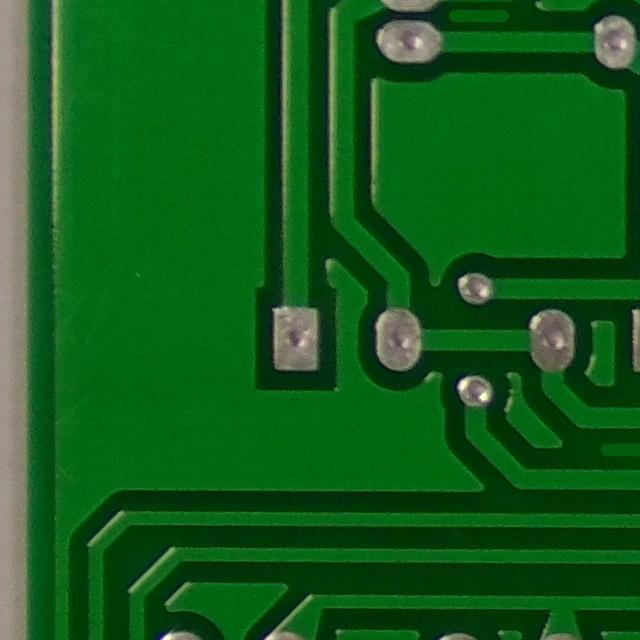spurious_copper: (427, 0, 509, 43), (591, 428, 640, 477)
